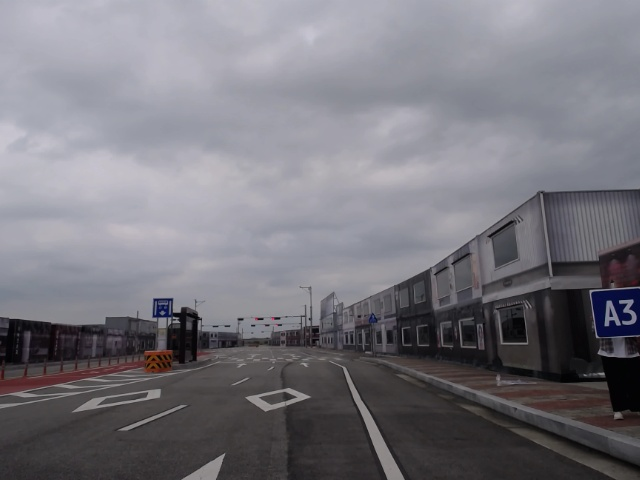delivery_a3: (591, 287, 639, 338)
